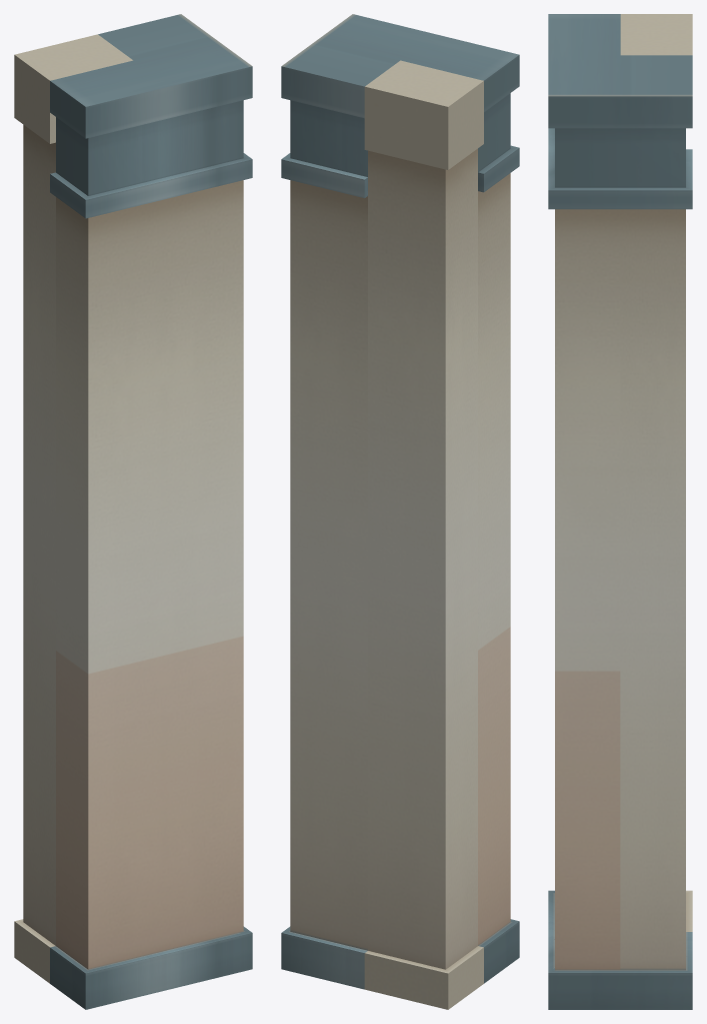
Rendered from SHW_Pillar_01_25.fbx.
The picture shows the model from 3 angles, left to right: view 1: azimuth 30°, elevation 25°; view 2: azimuth 150°, elevation 25°; view 3: azimuth 270°, elevation 25°; orthographic projection.
Parts seen in each view (by area): view 1: shw_pillar_01_25; view 2: shw_pillar_01_25; view 3: shw_pillar_01_25.
Boxes of the visible parts, x1,y1,x2,y2 form: shw_pillar_01_25: (14, 14, 252, 1009); shw_pillar_01_25: (281, 14, 519, 1009); shw_pillar_01_25: (548, 14, 692, 1009).
Bounding box in the file's own units: 58 × 300 × 43.
